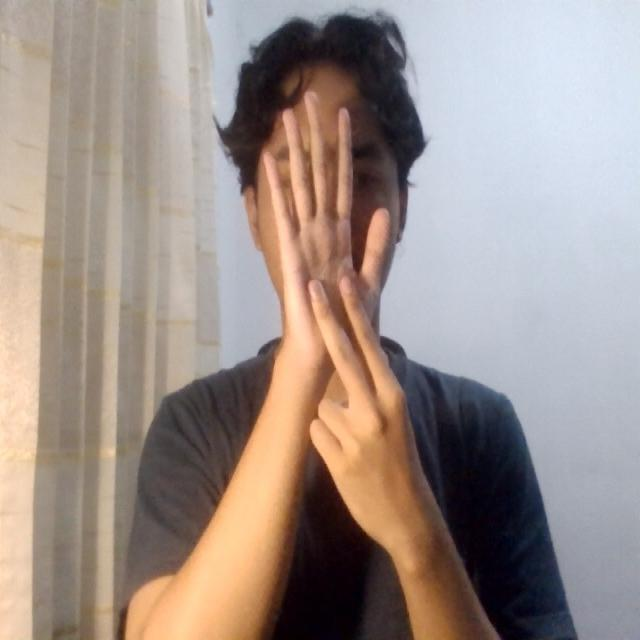IloveYou: (228, 69, 440, 491)
